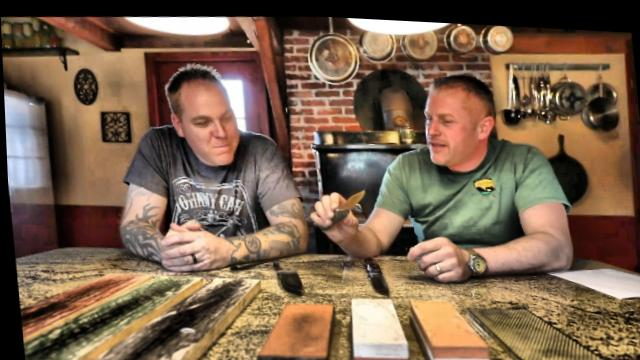knife: (314, 178, 372, 227)
